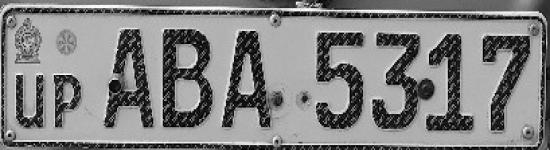1: (427, 27, 478, 137)
3: (370, 28, 424, 139)
5: (307, 26, 369, 141)
7: (482, 31, 538, 129)
A: (218, 27, 283, 134), (98, 24, 156, 133)
B: (157, 26, 215, 133)
P: (52, 65, 85, 130)
U: (14, 65, 50, 130)
